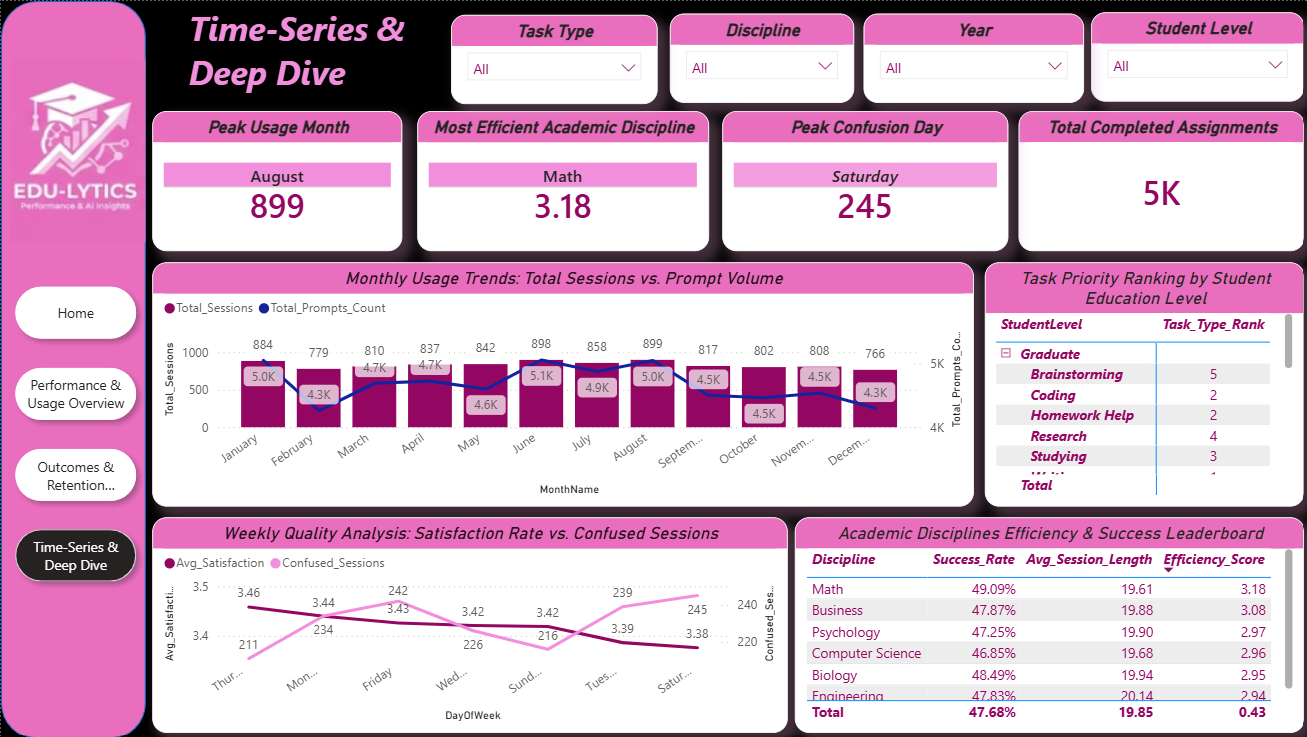

This screenshot's page, from the dashboard's own definition file:
{"tool":"powerbi","page":{"name":"Time-Series & Deep Dive","canvas":[1280,720],"ordinal":3},"visuals":[{"type":"cardVisual","title":"Peak Usage Month","fields":{"Data":["_all_measures.Total_Sessions"],"Rows":["Dim_Date.MonthName"]},"box":[147,107.4,244.2,136.8],"z":0},{"type":"cardVisual","title":"Total Completed Assignments","fields":{"Data":["_all_measures.Completed_Assignments"]},"box":[992.7,107.4,279.3,136.8],"z":1000},{"type":"cardVisual","title":"Most Efficient Academic Discipline","fields":{"Rows":["Dim_Student.Discipline"],"Data":["_all_measures.Efficiency_Score"]},"box":[405.9,107.4,284.9,136.8],"z":2000},{"type":"cardVisual","title":"Peak Confusion Day","fields":{"Rows":["Dim_Date.DayOfWeek"],"Data":["_all_measures.Confused_Sessions"]},"box":[703.3,107.4,279.3,136.8],"z":3000},{"type":"lineClusteredColumnComboChart","title":"Monthly Usage Trends: Total Sessions vs. Prompt Volume","fields":{"Category":["Dim_Date.MonthName"],"Y":["_all_measures.Total_Sessions"],"Y2":["_all_measures.Total_Prompts_Count"]},"box":[147,254.4,801.6,238.6],"z":4000},{"type":"lineChart","title":"Weekly Quality Analysis: Satisfaction Rate vs. Confused Sessions","fields":{"Category":["Dim_Date.DayOfWeek"],"Y":["_all_measures.Avg_Satisfaction"],"Y2":["_all_measures.Confused_Sessions"]},"box":[147,503.1,619.6,210.3],"z":5000},{"type":"pivotTable","title":"Task Priority Ranking by Student Education Level","fields":{"Rows":["Dim_Student.StudentLevel","Dim_Task.TaskType"],"Values":["_all_measures.Task_Type_Rank"]},"box":[959.9,254.4,312.1,238.6],"z":6000},{"type":"tableEx","title":"Academic Disciplines Efficiency & Success Leaderboard","fields":{"Values":["Dim_Student.Discipline","_all_measures.Success_Rate","_all_measures.Avg_Session_Length","_all_measures.Efficiency_Score"]},"box":[774.5,503.1,497.5,210.3],"z":7000},{"type":"slicer","title":"Student Level","fields":{"Values":["Dim_Student.StudentLevel"]},"box":[1063.9,11.3,208,87.1],"z":8000},{"type":"slicer","title":"Discipline","fields":{"Values":["Dim_Student.Discipline"]},"box":[652.4,12.4,179.8,87.1],"z":9000},{"type":"slicer","title":"Year","fields":{"Values":["Dim_Date.Year"]},"box":[841.2,12.4,214.8,87.1],"z":10000},{"type":"slicer","title":"Task Type","fields":{"Values":["Dim_Task.TaskType"]},"box":[438.7,13.6,201.3,87.1],"z":11000},{"type":"shape","box":[0,0,141.3,720.2],"z":12000},{"type":"textbox","box":[177.5,0,288.3,136.8],"z":13000},{"type":"image","box":[10.2,0,131.2,290.6],"z":14000},{"type":"pageNavigator","box":[4.5,269.1,136.8,308.7],"z":15000}]}

Visuals, with their boxes in screenshot pixels (x1, y1, x2, y2), scaled from the page's 1280x720 canvas onto the 1307x737 screenshot:
"Peak Usage Month" cardVisual: pyautogui.locateOnScreen(150, 110, 399, 250)
"Total Completed Assignments" cardVisual: pyautogui.locateOnScreen(1014, 110, 1299, 250)
"Most Efficient Academic Discipline" cardVisual: pyautogui.locateOnScreen(414, 110, 705, 250)
"Peak Confusion Day" cardVisual: pyautogui.locateOnScreen(718, 110, 1003, 250)
"Monthly Usage Trends: Total Sessions vs. Prompt Volume" lineClusteredColumnComboChart: pyautogui.locateOnScreen(150, 260, 969, 505)
"Weekly Quality Analysis: Satisfaction Rate vs. Confused Sessions" lineChart: pyautogui.locateOnScreen(150, 515, 783, 730)
"Task Priority Ranking by Student Education Level" pivotTable: pyautogui.locateOnScreen(980, 260, 1299, 505)
"Academic Disciplines Efficiency & Success Leaderboard" tableEx: pyautogui.locateOnScreen(791, 515, 1299, 730)
"Student Level" slicer: pyautogui.locateOnScreen(1086, 12, 1299, 101)
"Discipline" slicer: pyautogui.locateOnScreen(666, 13, 850, 102)
"Year" slicer: pyautogui.locateOnScreen(859, 13, 1078, 102)
"Task Type" slicer: pyautogui.locateOnScreen(448, 14, 654, 103)
shape: pyautogui.locateOnScreen(0, 0, 144, 736)
textbox: pyautogui.locateOnScreen(181, 0, 476, 140)
image: pyautogui.locateOnScreen(10, 0, 144, 297)
pageNavigator: pyautogui.locateOnScreen(5, 275, 144, 591)
